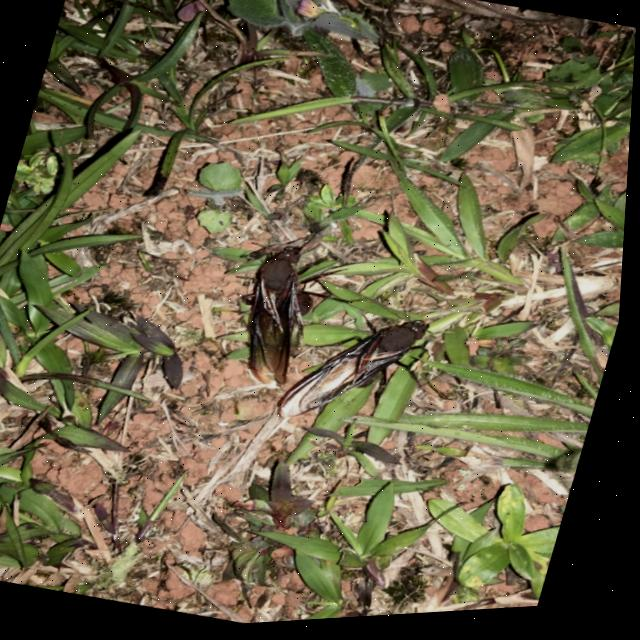Alive-Female-Alate: (277, 286, 465, 455), (211, 233, 388, 409)
